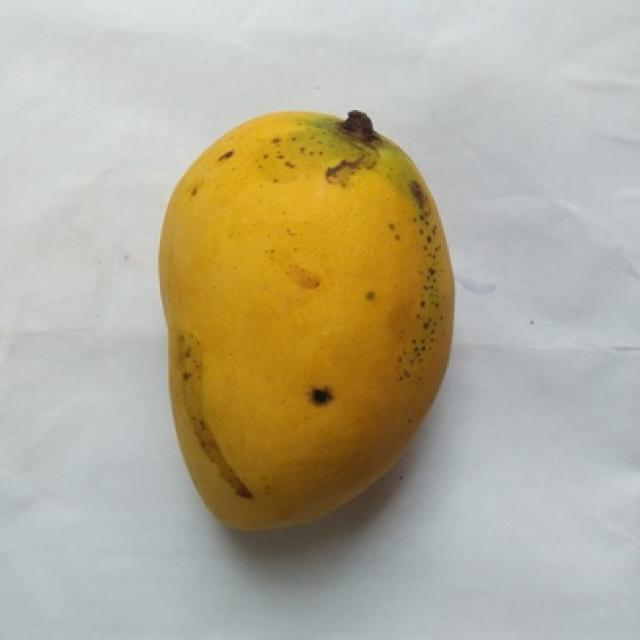Mango: (160, 112, 453, 530)
